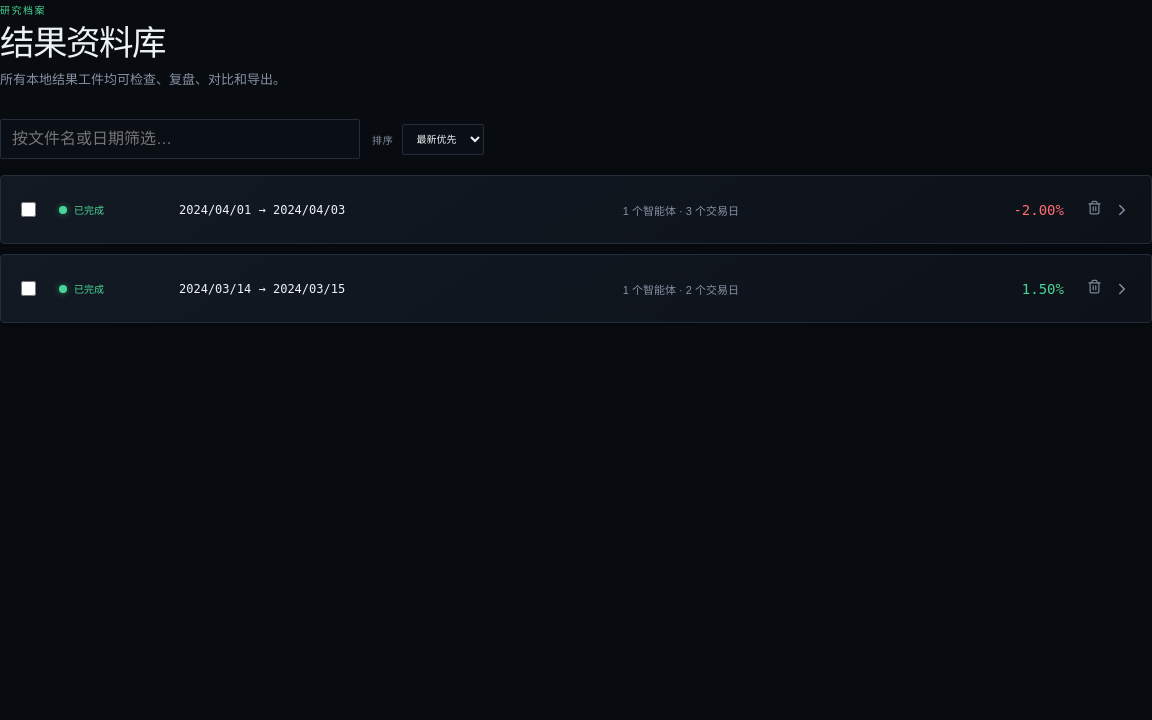
Test case: Results › deletes a result artifact after confirmation and removes it from the list
This screenshot has width=1152, height=720.
Expected: the text "2024/03/14 → 2024/03/15" is shown, [179, 282, 345, 296]
Click the button named "删除结果工件 a_result.json" at (1094, 289), box [1080, 272, 1109, 305]
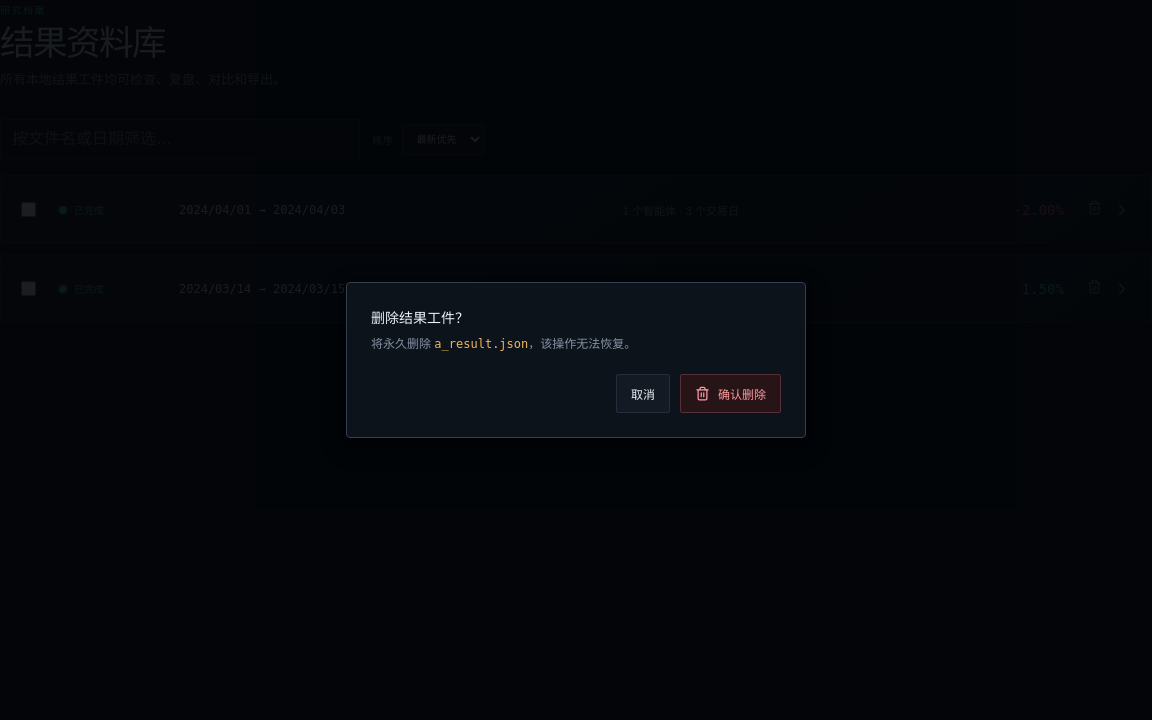
Expected: the dialog shows "a_result.json", [434, 337, 528, 351]
Click the button "确认删除" at (730, 394), box [680, 374, 781, 413]
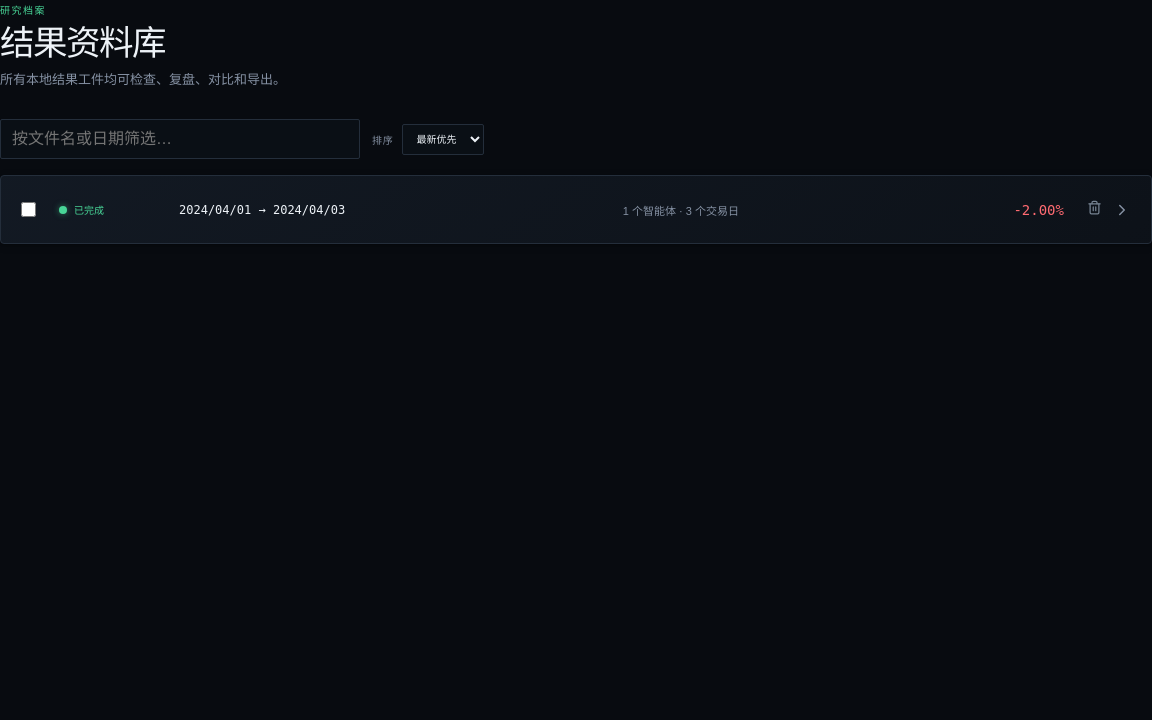
Expected: the text "2024/04/01 → 2024/04/03" is shown, [179, 203, 345, 217]
Expected: the button "2024/03/14" is gone
